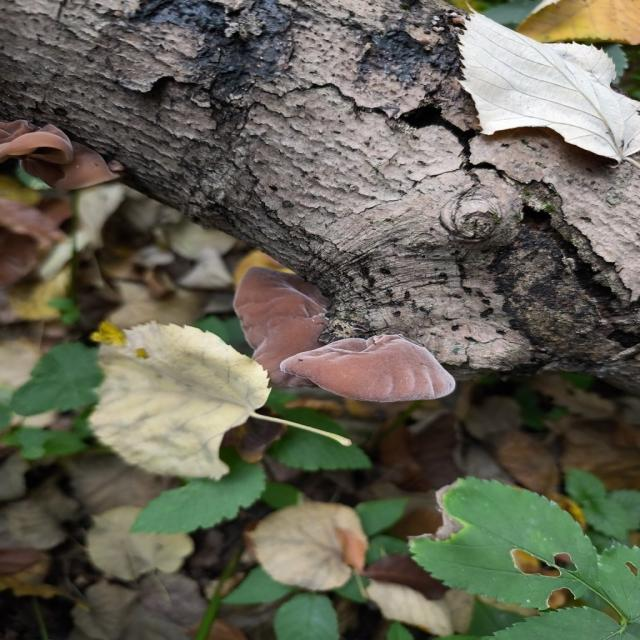Matang: (233, 258, 339, 402), (281, 342, 465, 414)
